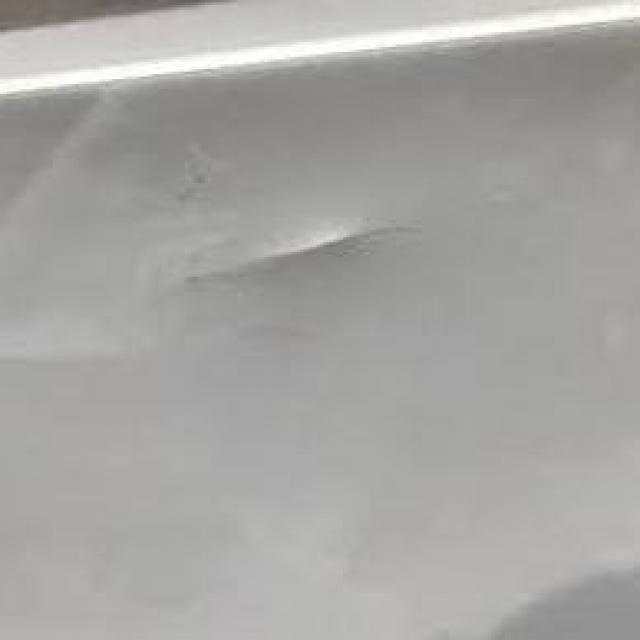dent: (109, 214, 409, 312)
